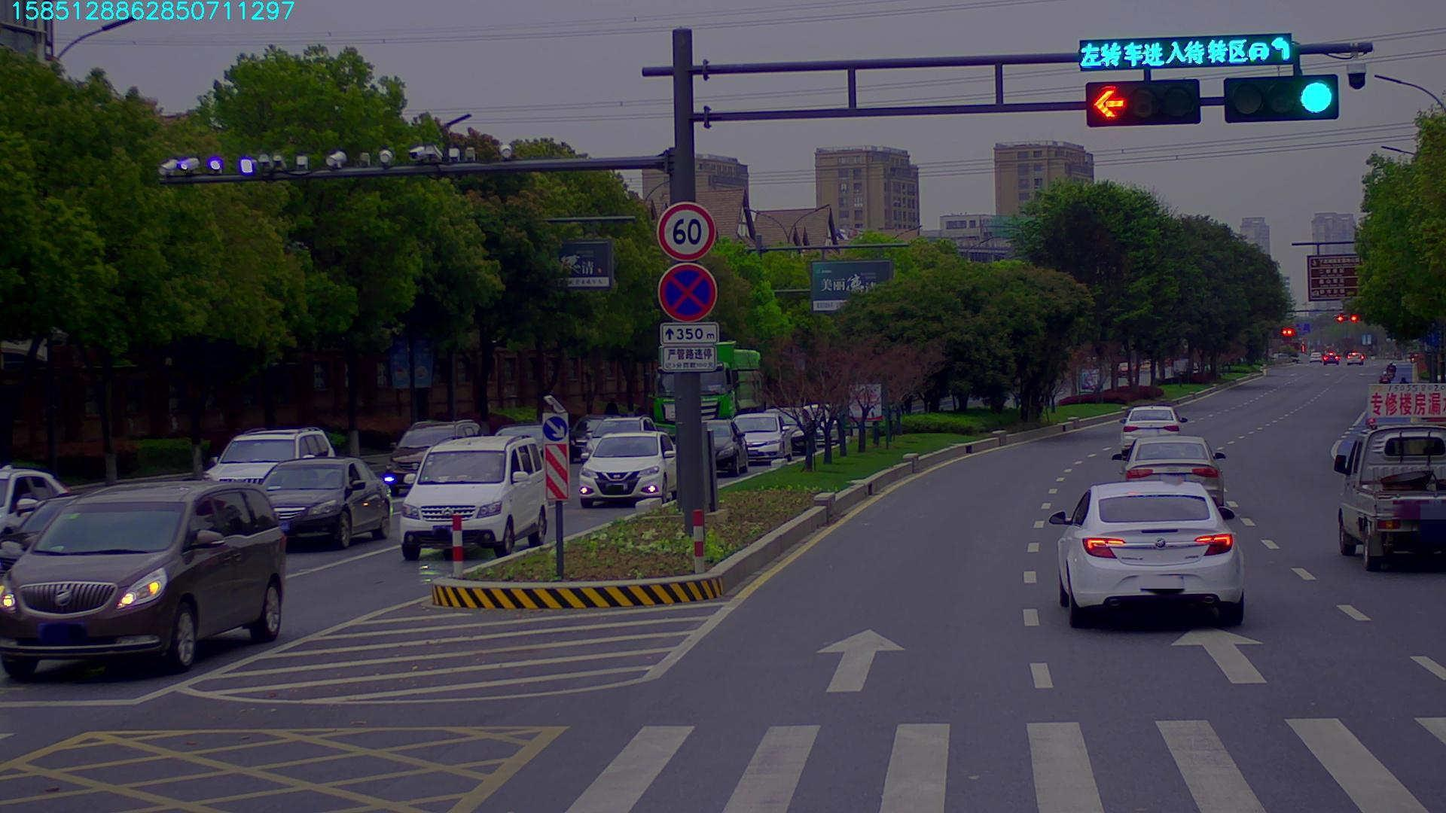green: (1219, 75, 1342, 120)
red: (1079, 84, 1199, 123)
wait_on: (1078, 27, 1294, 69)
